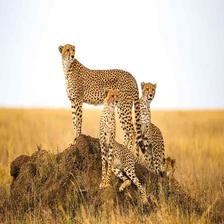Cheetah: (59, 43, 144, 148), (96, 88, 152, 202), (130, 81, 167, 178)
